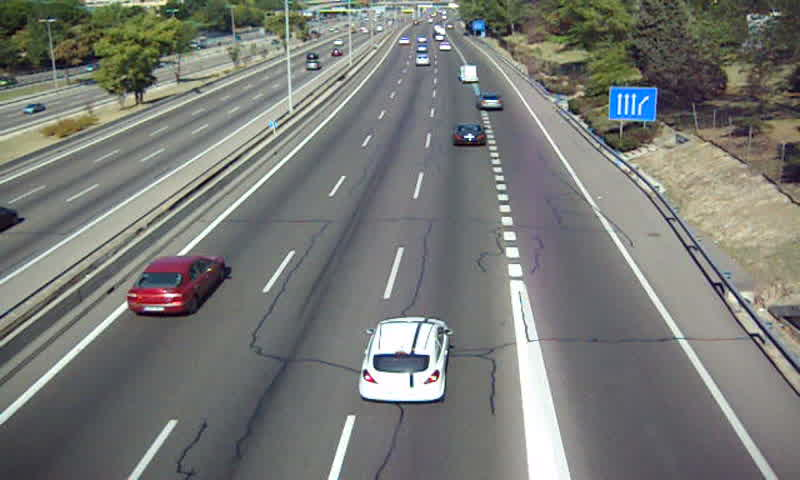car: (360, 318, 450, 402), (128, 255, 223, 315), (452, 123, 487, 145), (476, 92, 503, 112), (415, 53, 430, 65)
van: (460, 64, 478, 81)
